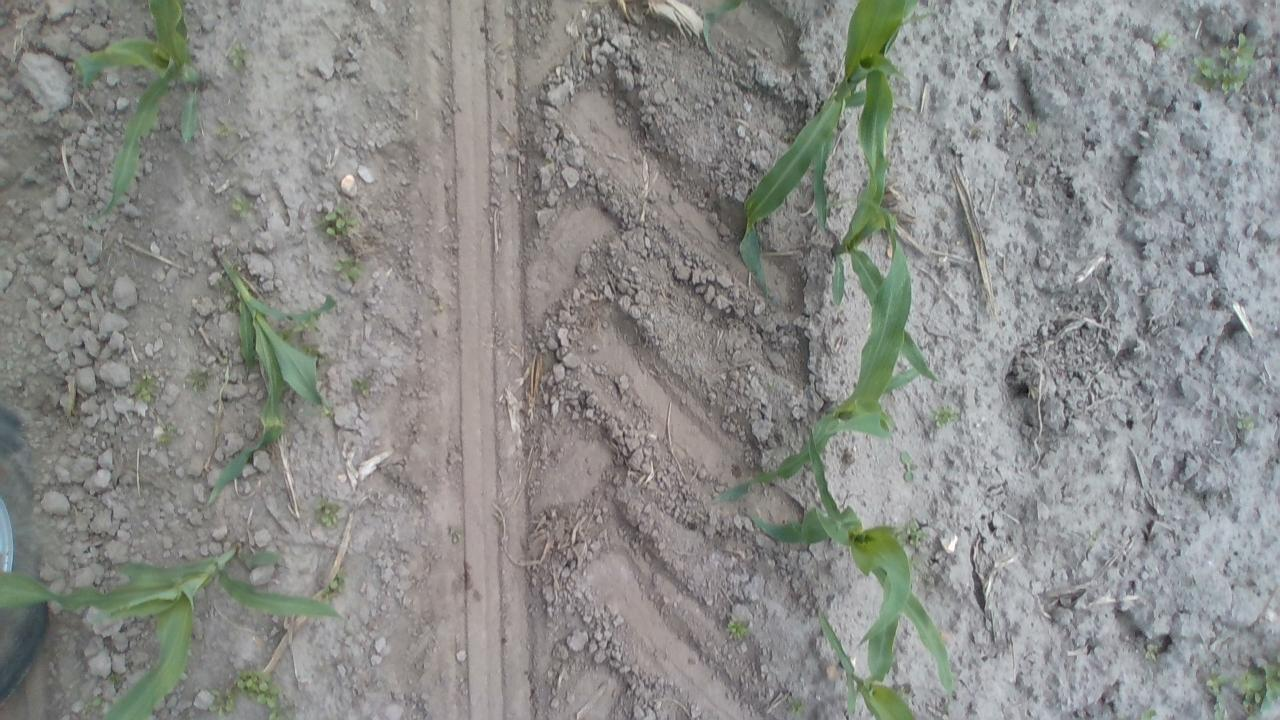Maize: (710, 200, 938, 513), (0, 529, 346, 720), (734, 426, 962, 715), (740, 0, 930, 323), (814, 81, 931, 404), (203, 245, 345, 510), (68, 0, 216, 225), (813, 582, 921, 718), (696, 0, 746, 61)
Weeds: (1190, 29, 1260, 102), (229, 665, 287, 719), (1234, 660, 1279, 714), (318, 201, 362, 243), (1203, 670, 1229, 718), (129, 368, 160, 408), (312, 496, 344, 532), (205, 683, 236, 717), (896, 448, 922, 487), (320, 570, 350, 602), (928, 400, 958, 431), (332, 255, 365, 283), (183, 365, 215, 393), (896, 519, 926, 548), (227, 194, 254, 224), (348, 372, 378, 398), (725, 618, 755, 644), (225, 42, 252, 70), (1149, 30, 1179, 55), (152, 422, 182, 446), (78, 693, 109, 715), (1142, 638, 1164, 666), (278, 320, 304, 343), (1232, 411, 1256, 435), (209, 122, 236, 142), (784, 696, 809, 716), (1022, 115, 1042, 139), (104, 669, 124, 693), (316, 400, 338, 420), (1138, 702, 1162, 719), (447, 526, 466, 545)
